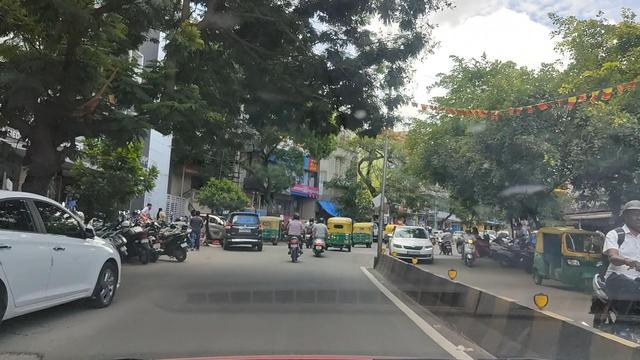LMV: (0, 191, 122, 313), (286, 216, 308, 264)
RoadDamages: (9, 341, 45, 360)
